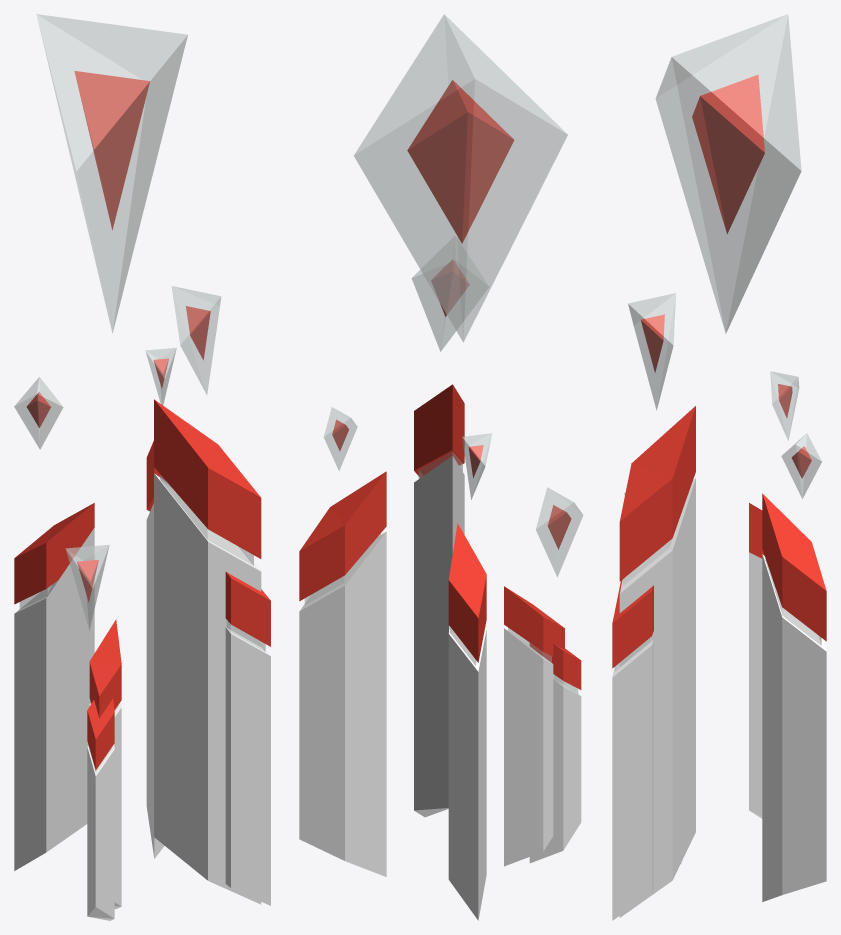
File: Monument.glb
3 views of the same model, side by side, from view 1: azimuth 30°, elevation 25°; view 2: azimuth 150°, elevation 25°; view 3: azimuth 270°, elevation 25° (orthographic). The views are drawn at different scales.
Parts seen in each view (by area): view 1: group1690861417, group985046001, group79669443, group1147876547, group1488017071, group819938195, group785487691, group175900553, group2086956734, group1527912674, group1851883850; view 2: group79669443, group785487691, group1690861417, group985046001, group819938195, group1488017071, group175900553, group2086956734, group1851883850, group1527912674; view 3: group79669443, group1690861417, group785487691, group1147876547, group985046001, group175900553, group1851883850, group1527912674.
Part boxes in pixels (x1,y1,x2,y2): group1690861417: [154, 399, 261, 904]; group985046001: [14, 503, 94, 870]; group79669443: [36, 14, 187, 333]; group1147876547: [225, 572, 270, 905]; group1488017071: [87, 699, 114, 920]; group819938195: [89, 619, 121, 908]; group785487691: [146, 441, 166, 858]; group175900553: [171, 286, 221, 394]; group2086956734: [66, 545, 109, 630]; group1527912674: [14, 377, 63, 449]; group1851883850: [145, 347, 176, 404]; group79669443: [354, 14, 567, 342]; group785487691: [299, 471, 386, 876]; group1690861417: [414, 384, 464, 817]; group985046001: [448, 523, 486, 920]; group819938195: [504, 586, 564, 866]; group1488017071: [529, 643, 581, 863]; group175900553: [411, 236, 488, 351]; group2086956734: [536, 487, 583, 576]; group1851883850: [324, 407, 357, 470]; group1527912674: [462, 433, 492, 499]; group79669443: [655, 14, 801, 333]; group1690861417: [619, 406, 695, 917]; group785487691: [762, 493, 826, 901]; group1147876547: [612, 580, 653, 920]; group985046001: [749, 503, 764, 818]; group175900553: [628, 293, 675, 410]; group1851883850: [781, 433, 821, 498]; group1527912674: [770, 371, 799, 440].
Bounding box in the file's own units: 0.3369 × 1.4 × 0.3235.
